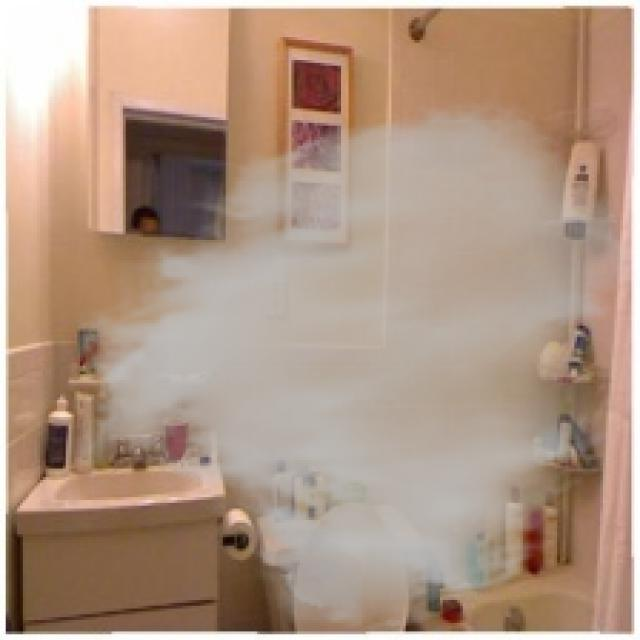Smoke: (63, 97, 632, 634)
